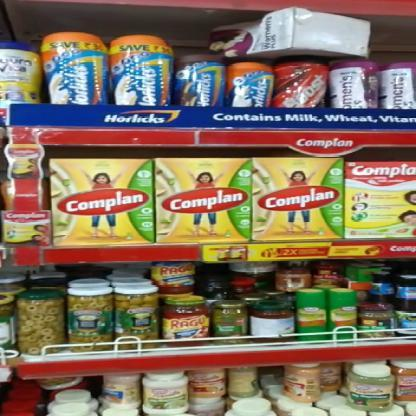Complan Pista Badam: (50, 158, 152, 242), (158, 158, 248, 241), (254, 158, 344, 240), (341, 162, 415, 242)
